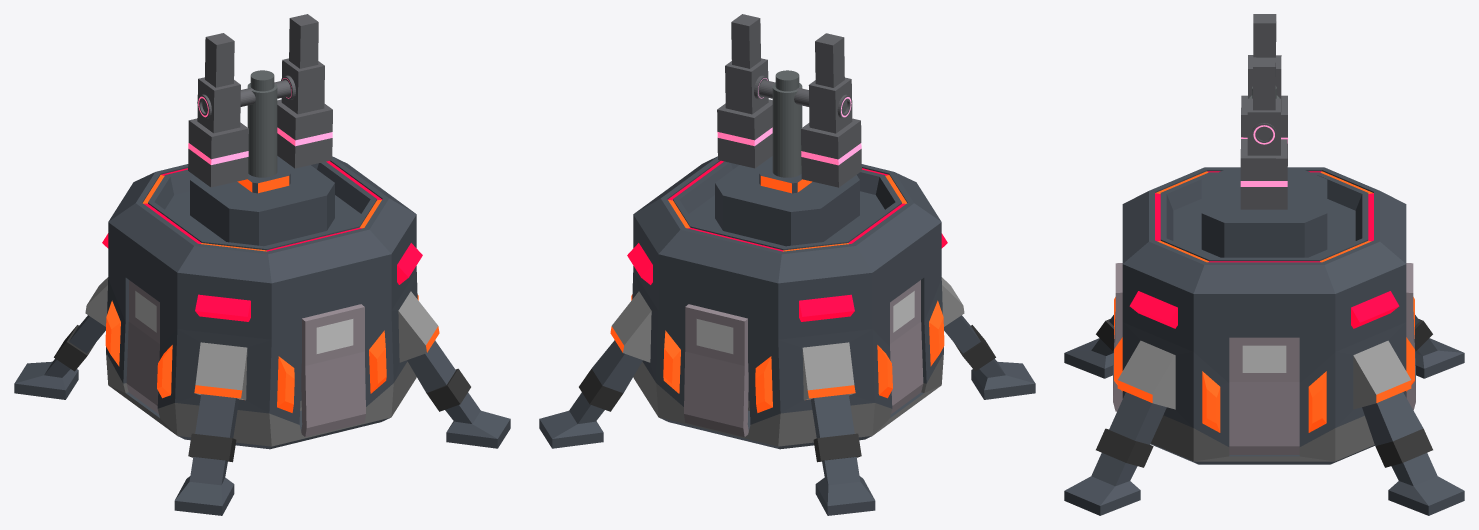
The model's file is boss2.fbx.
3 renders of one model, left to right at view 1: azimuth 30°, elevation 25°; view 2: azimuth 150°, elevation 25°; view 3: azimuth 270°, elevation 25°, orthographic. The views are drawn at different scales.
Visible parts, largest first — view 1: Body, Cannon, door, door.002, CannonTube; view 2: Body, Cannon, door.003, door.002, CannonTube; view 3: Body, door.001, Cannon, door, door.003.
Part boxes in pixels (x1,y1,x2,y2): Body: [14, 156, 510, 515]; Cannon: [188, 14, 332, 187]; door: [301, 304, 365, 436]; door.002: [126, 280, 159, 413]; CannonTube: [247, 70, 277, 177]; Body: [539, 156, 1035, 515]; Cannon: [717, 14, 861, 187]; door.003: [684, 304, 748, 437]; door.002: [890, 280, 923, 413]; CannonTube: [772, 70, 802, 177]; Body: [1064, 167, 1464, 515]; door.001: [1229, 337, 1299, 454]; Cannon: [1240, 14, 1287, 209]; door: [1113, 263, 1122, 411]; door.003: [1406, 263, 1415, 410].
Size of the model in its own units: 417 by 453 by 419.
